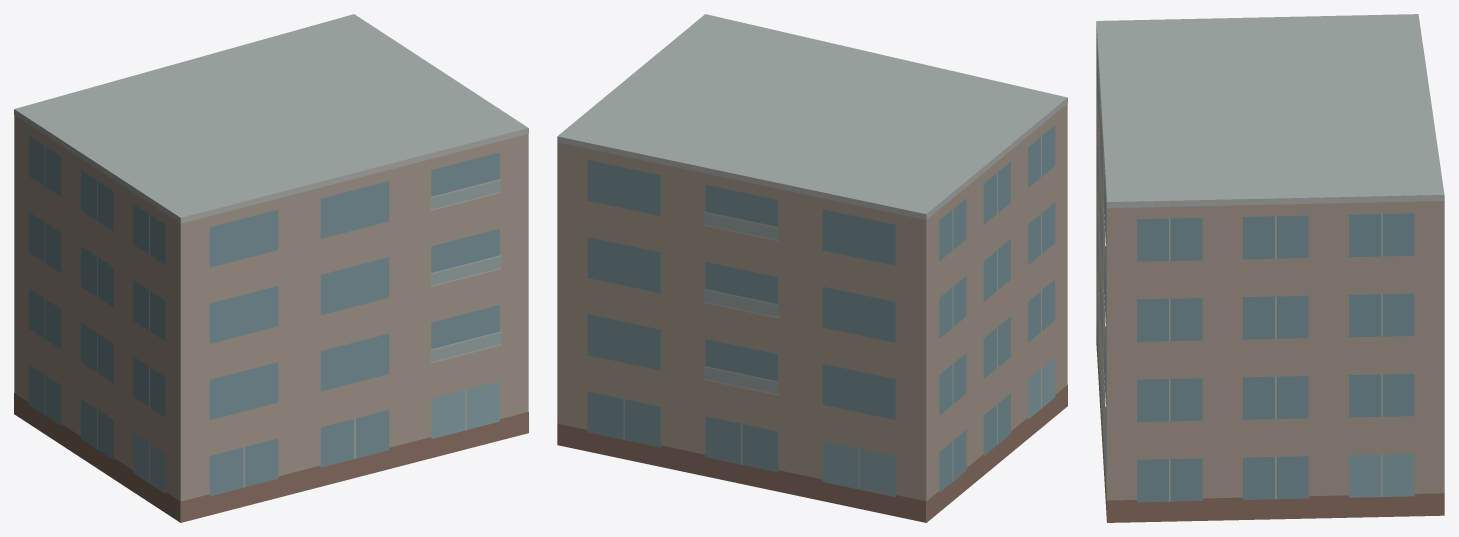
Rendered from survey-upis-32911946.glb.
The picture shows the model from 3 angles, left to right: view 1: azimuth 30°, elevation 25°; view 2: azimuth 150°, elevation 25°; view 3: azimuth 270°, elevation 25°; orthographic projection. The views are drawn at different scales.
Parts seen in each view (by area): view 1: survey-upis-32911946.tmp; view 2: survey-upis-32911946.tmp; view 3: survey-upis-32911946.tmp.
Boxes of the visible parts, box(x1,y1,x2,y2) form: survey-upis-32911946.tmp: box(14, 14, 528, 522); survey-upis-32911946.tmp: box(557, 14, 1067, 522); survey-upis-32911946.tmp: box(1096, 14, 1444, 522).
Size of the model in its own units: 16.24 by 12.9 by 12.7.
